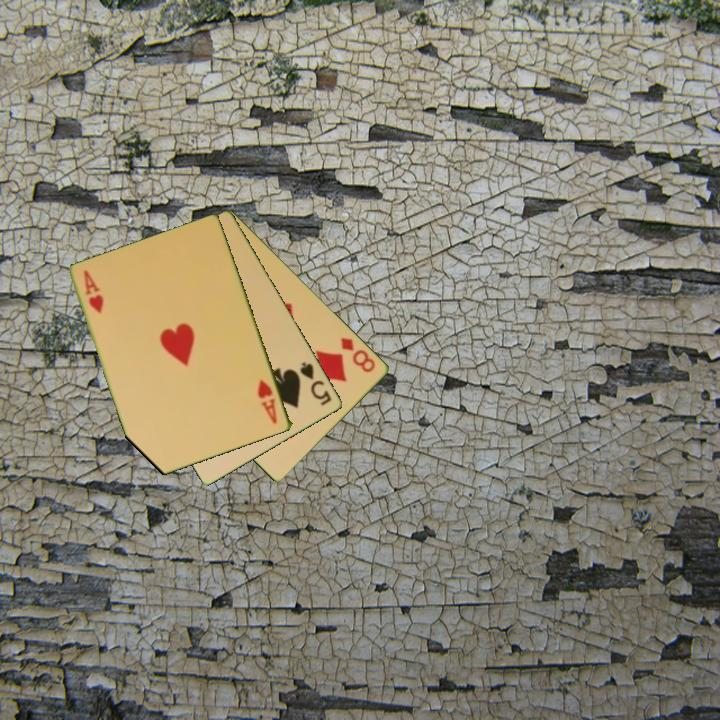5s: (297, 358, 335, 409)
8d: (337, 334, 378, 375)
Ah: (254, 376, 280, 427), (80, 266, 106, 316)
